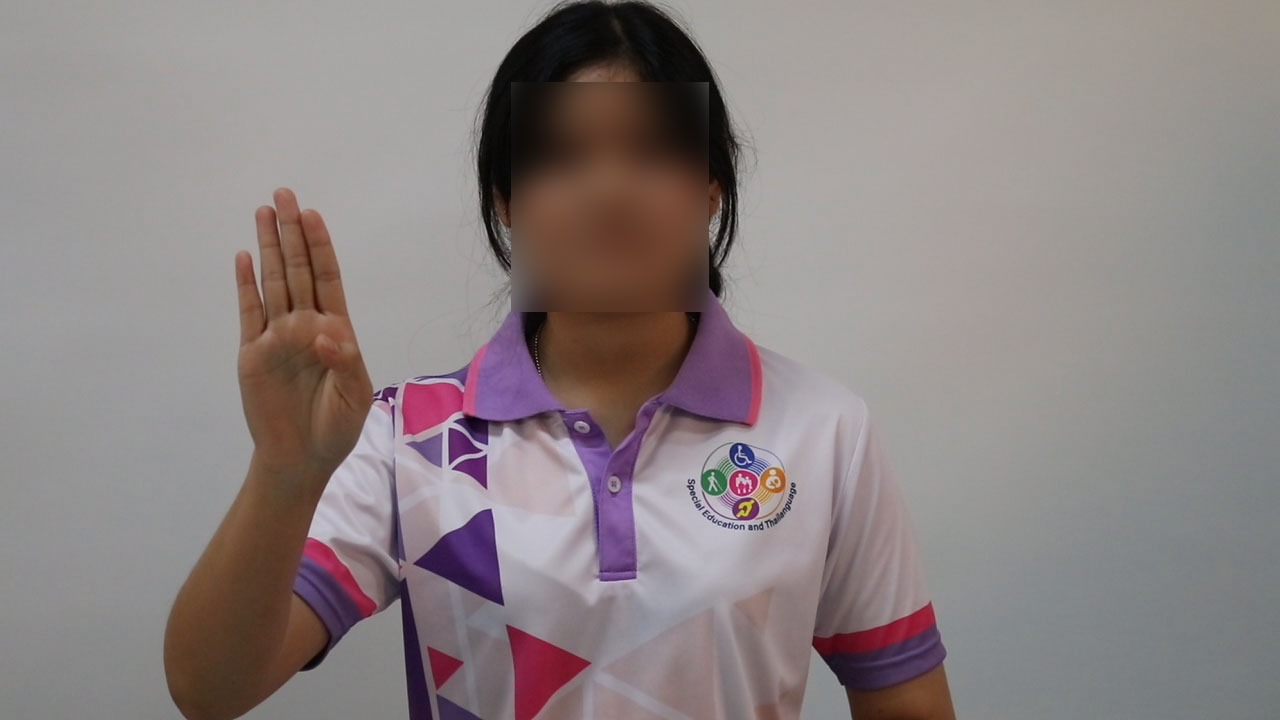bor: (214, 174, 387, 508)
